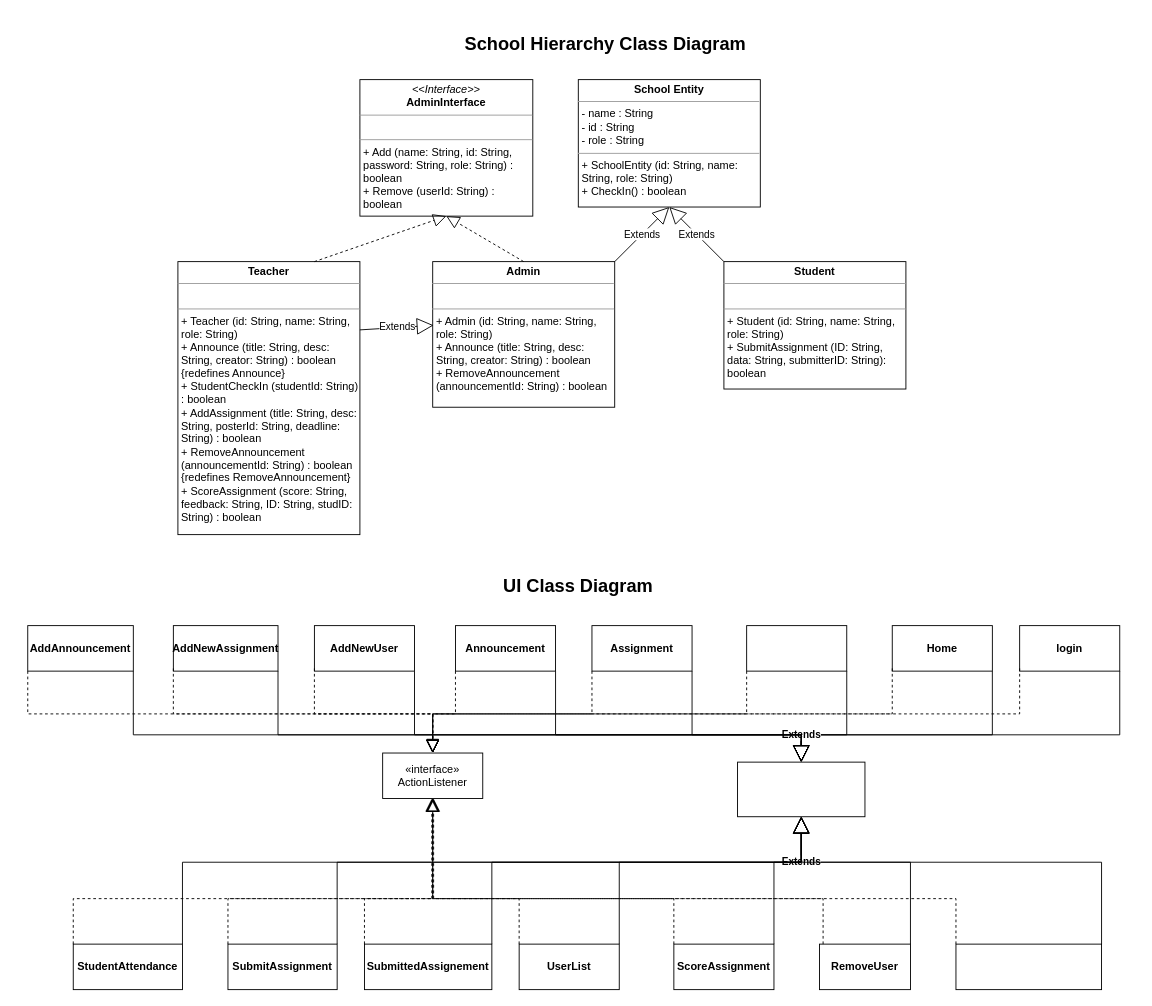
Image size: 1152x1006. Some labels were removed from this diagram. Each missing label, with the box of its shape:
Attedance: (746, 625, 847, 671)
JFrame: (737, 761, 865, 817)
RemoveAnnouncement: (955, 943, 1102, 990)
